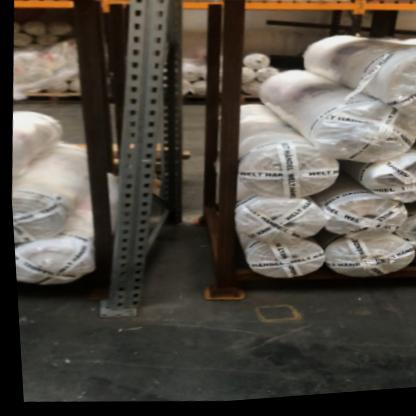vertical_damage: (88, 269, 151, 326)
